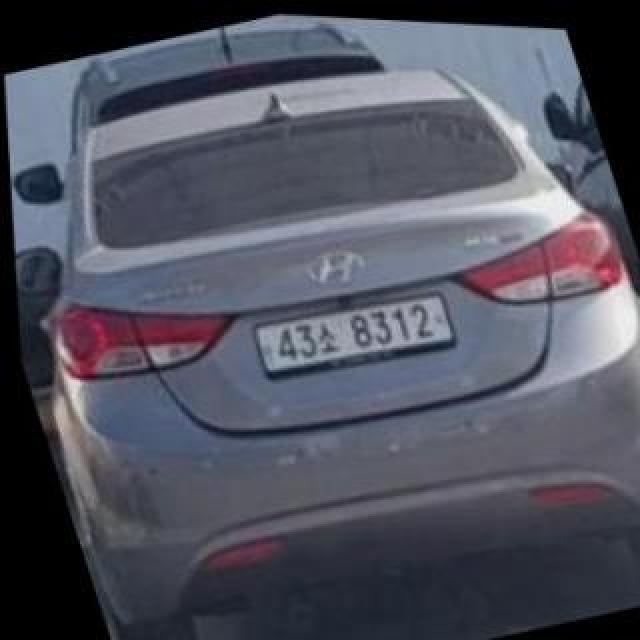car: (15, 65, 640, 640)
illegal_plate: (252, 288, 455, 378)
